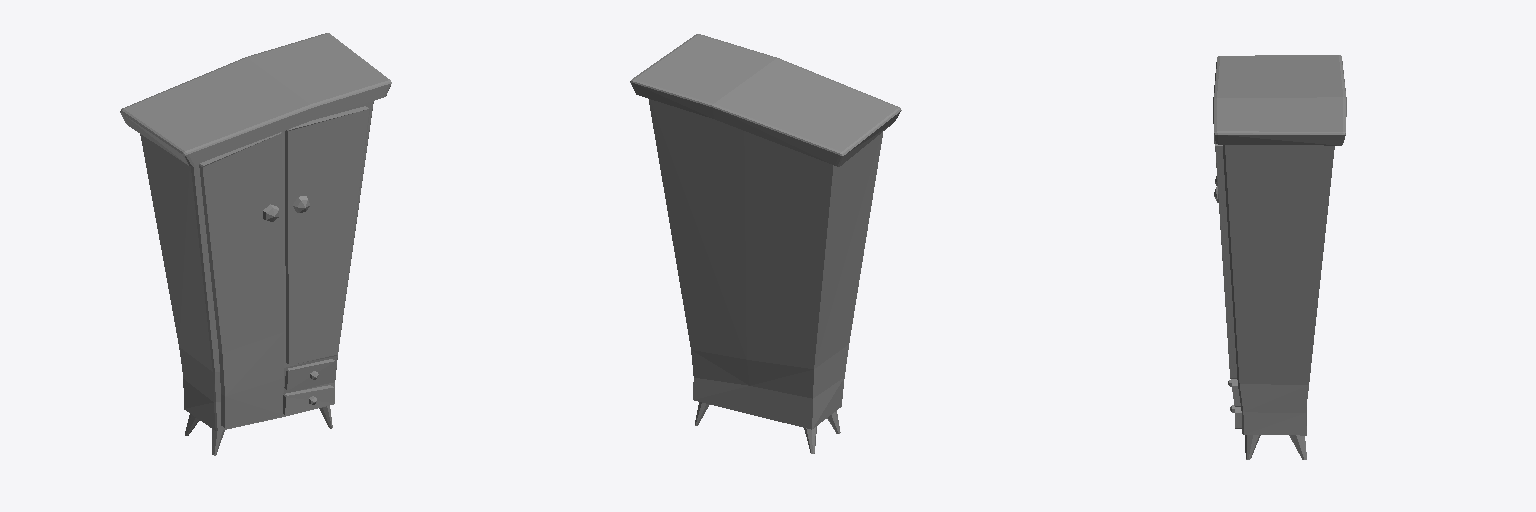
Rendered from Cabinet.obj.
The picture shows the model from 3 angles: view 1: azimuth 30°, elevation 25°; view 2: azimuth 150°, elevation 25°; view 3: azimuth 270°, elevation 25°; orthographic projection.
Parts seen in each view (by area): view 1: Cabinet; view 2: Cabinet; view 3: Cabinet.
Part boxes in pixels (left/top/right/bottom): Cabinet: left=120, top=33, right=391, bottom=455; Cabinet: left=630, top=34, right=901, bottom=453; Cabinet: left=1213, top=55, right=1346, bottom=459.
Bounding box in the file's own units: 125 × 197 × 68.46.